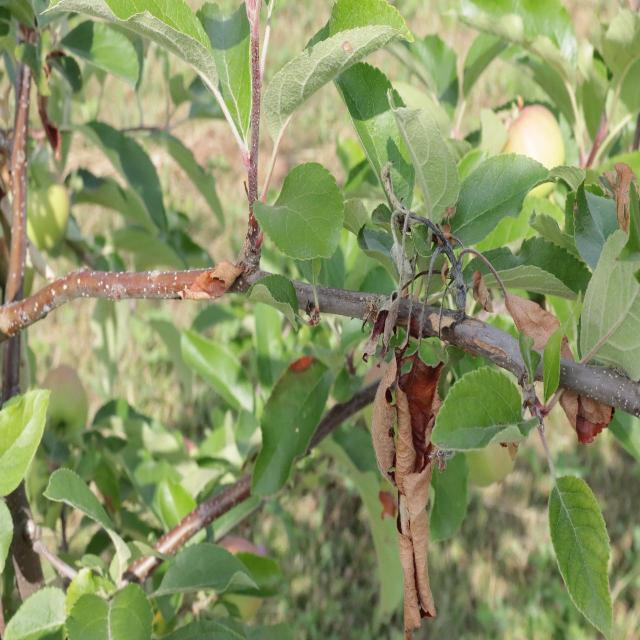-FireBlight-: (356, 169, 623, 633)
